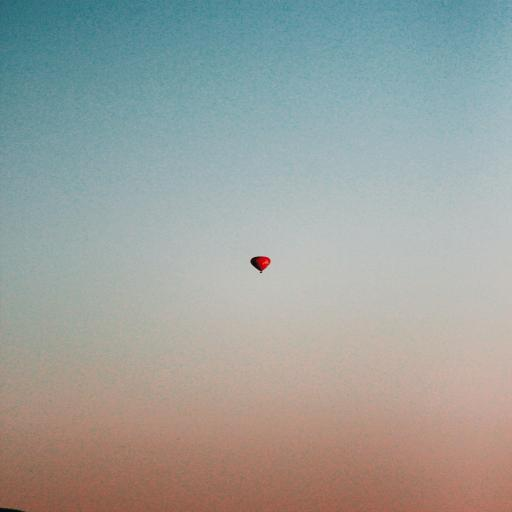hot air ballon: (250, 256, 271, 273)
